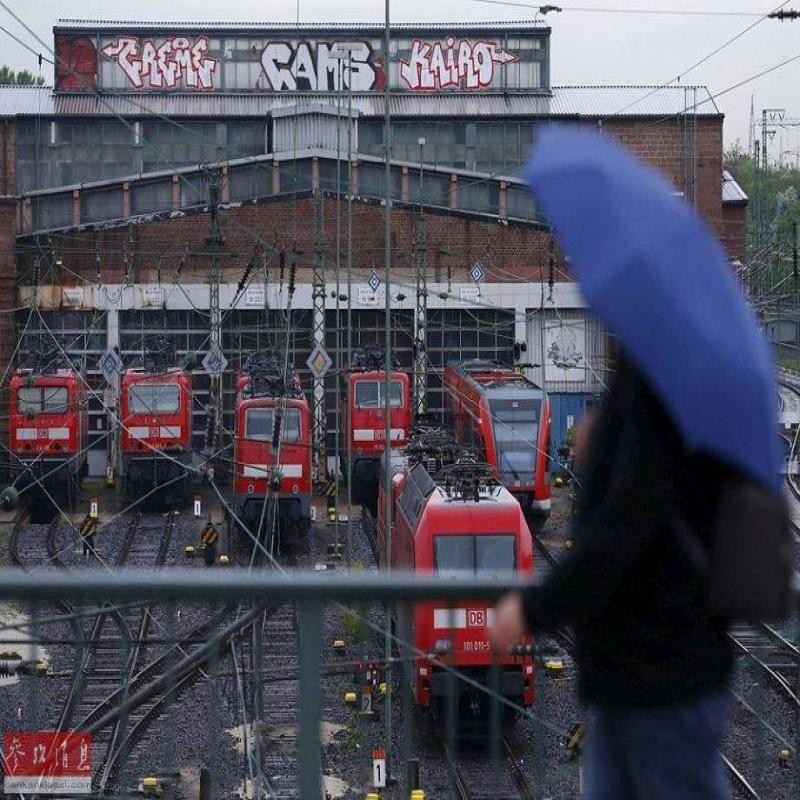train: (370, 424, 531, 748)
